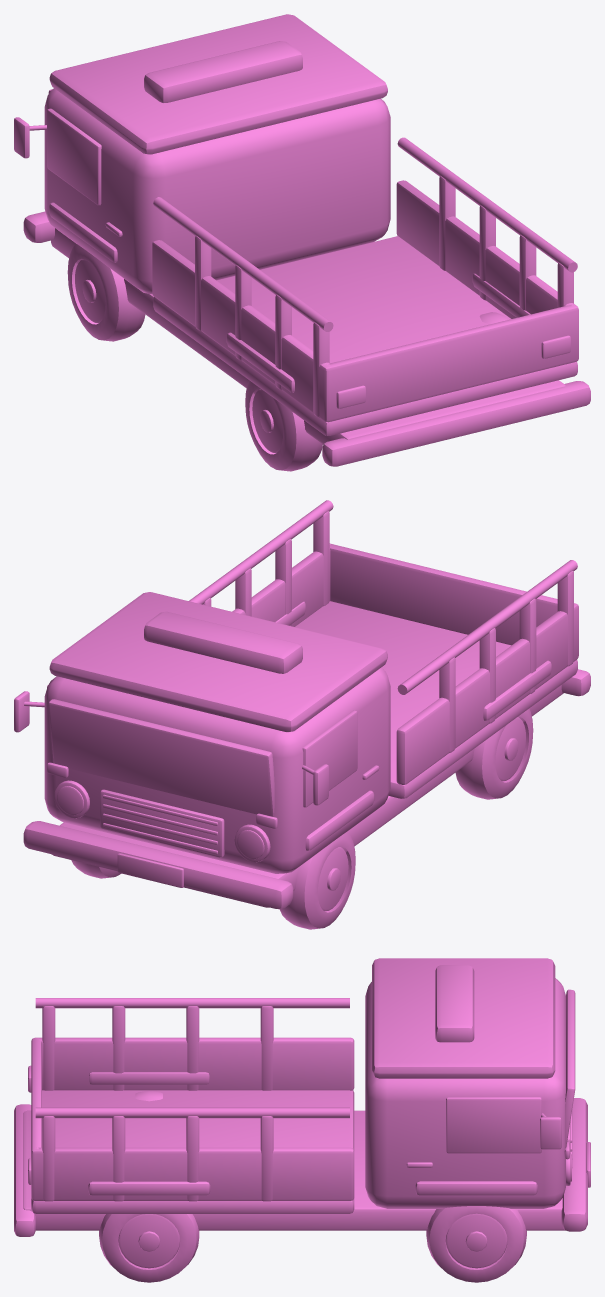
File: Vehicle_Van.fbx
The picture shows the model from 3 angles, top to bottom: view 1: azimuth 30°, elevation 25°; view 2: azimuth 150°, elevation 25°; view 3: azimuth 270°, elevation 25°; orthographic projection. The views are drawn at different scales.
Parts seen in each view (by area): view 1: Paint, Body, FrontLeft, RearLeft; view 2: Paint, Body, FrontLeft, RearLeft; view 3: Paint, Body, FrontRight, RearRight.
Part boxes in pixels (<box>): Paint: <box>44,14,578,435</box>; Body: <box>14,41,590,466</box>; FrontLeft: <box>67,244,145,341</box>; RearLeft: <box>245,380,322,471</box>; Paint: <box>44,543,578,873</box>; Body: <box>14,500,590,909</box>; FrontLeft: <box>279,832,355,929</box>; RearLeft: <box>455,708,533,799</box>; Paint: <box>31,958,565,1213</box>; Body: <box>14,965,590,1236</box>; FrontRight: <box>426,1206,526,1282</box>; RearRight: <box>99,1214,199,1282</box>.
Size of the model in its own units: 7.45 by 6 by 13.22.
1 material, 1 textured.
